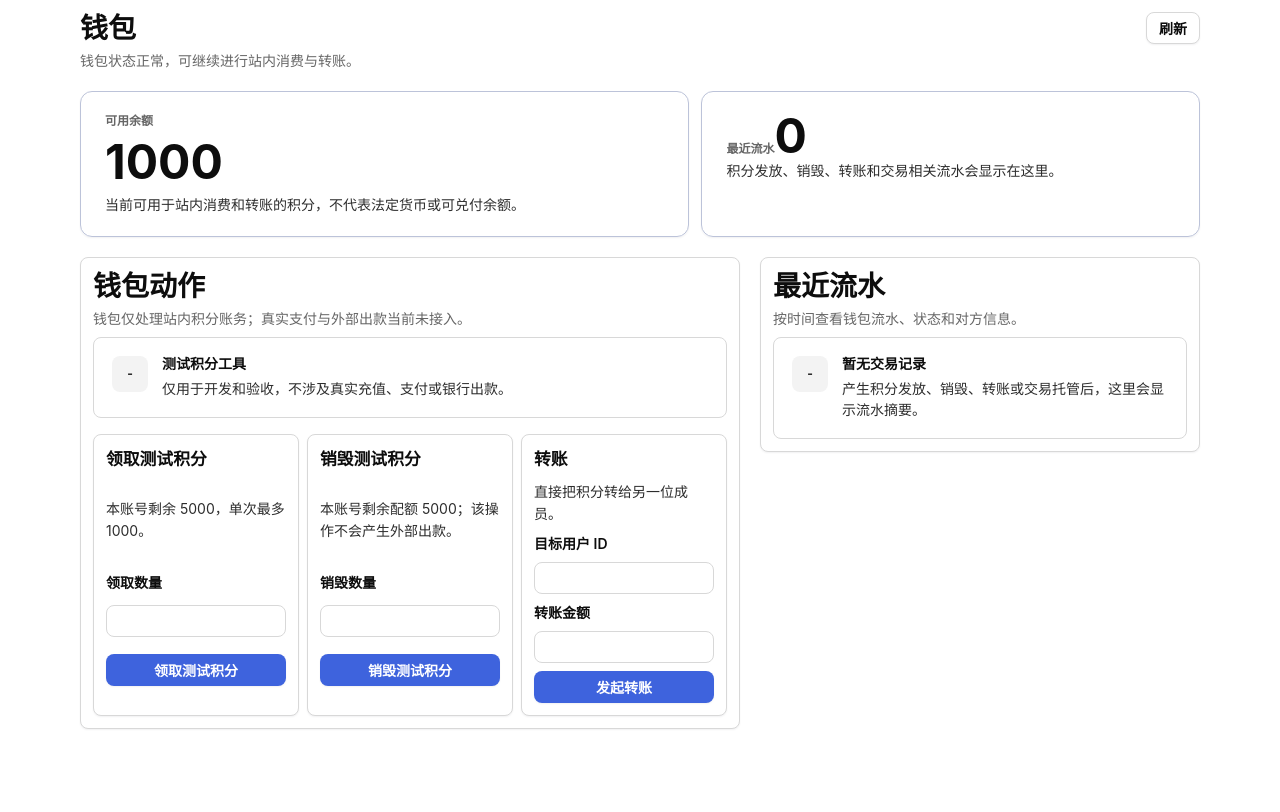
WalletView › rejects an invalid discard amount inline without opening the confirmation
Type "-2" into the number field labelled "销毁数量" at [410, 622], box [320,606,500,638]
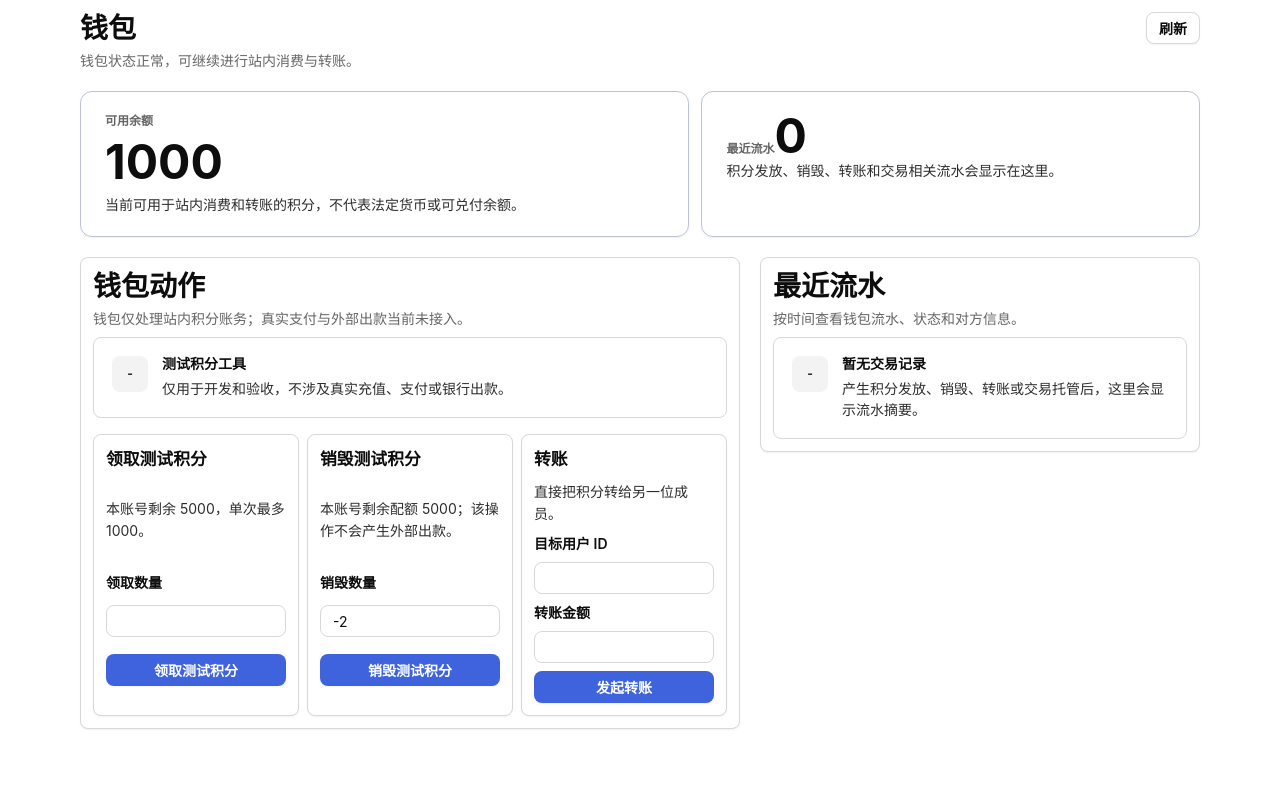
Click the button "销毁测试积分" at [410, 670], box [320,654,500,686]
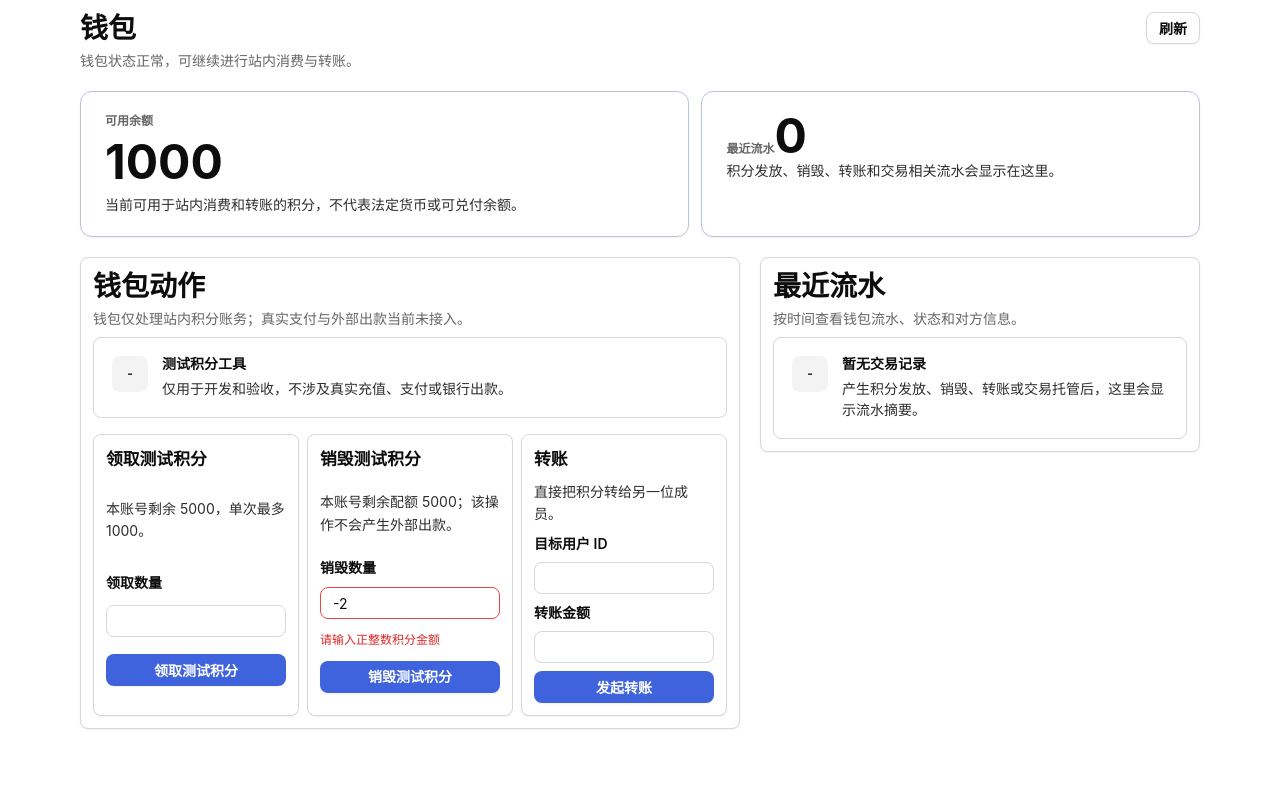
Check: the text "请输入正整数积分金额" is shown, box [320,632,440,647]
